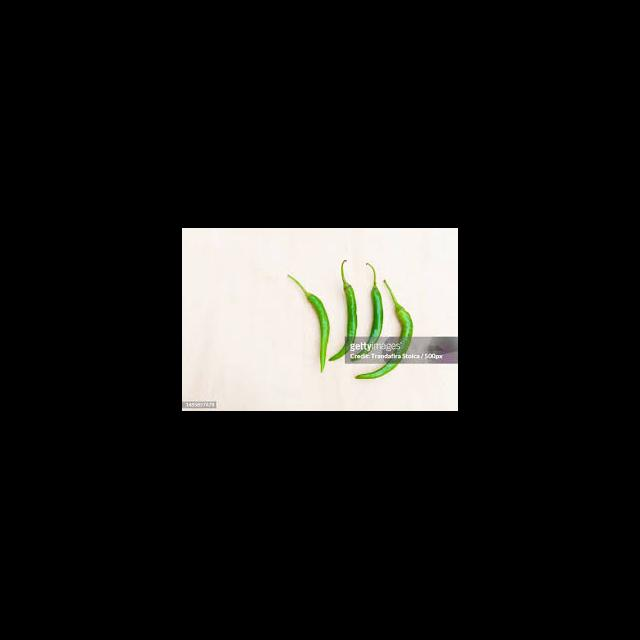chili_pepper: (285, 276, 329, 372), (371, 316, 417, 378), (344, 280, 357, 358), (368, 288, 384, 346)
